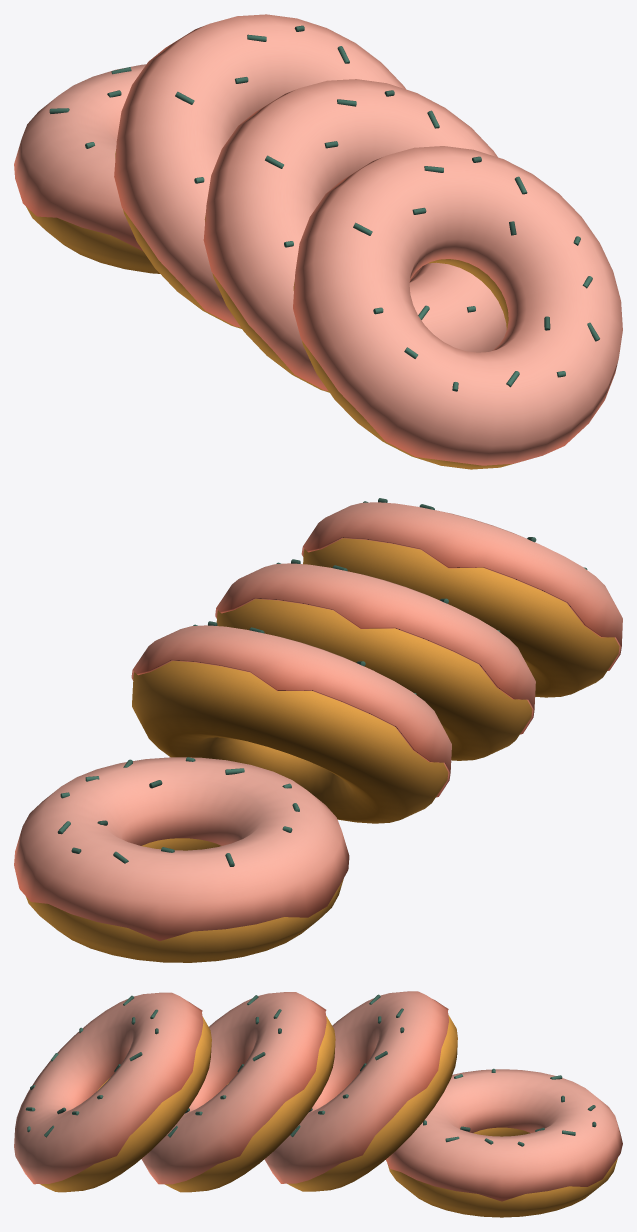
File: Full_Donut.fbx
3 views of the same model, one above another, from view 1: azimuth 30°, elevation 25°; view 2: azimuth 150°, elevation 25°; view 3: azimuth 270°, elevation 25° (orthographic). The views are drawn at different scales.
Parts seen in each view (by area): view 1: Full_Donut; view 2: Full_Donut; view 3: Full_Donut.
Boxes of the visible parts, box(x1,y1,x2,y2) form: Full_Donut: box(14, 14, 622, 469); Full_Donut: box(14, 498, 622, 962); Full_Donut: box(14, 991, 622, 1217).
Bounding box in the file's own units: 20.78 × 15.46 × 50.33.
